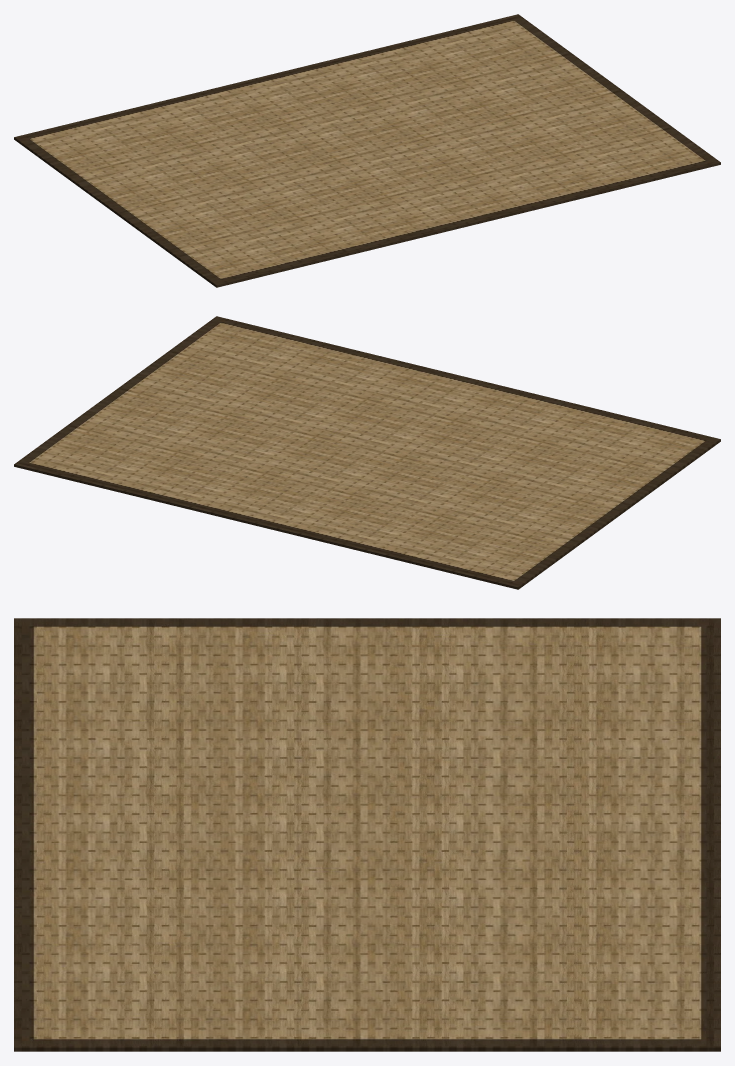
The model's file is alfombra_yute_160x230.glb.
3 views of the same model, one above another, from view 1: azimuth 30°, elevation 25°; view 2: azimuth 150°, elevation 25°; view 3: azimuth 270°, elevation 25° (orthographic). The views are drawn at different scales.
Visible parts, largest first — view 1: alfombra_yute_160x230; view 2: alfombra_yute_160x230; view 3: alfombra_yute_160x230.
Boxes of the visible parts, x1,y1,x2,y2 form: alfombra_yute_160x230: (14,14,720,287); alfombra_yute_160x230: (14,316,720,589); alfombra_yute_160x230: (14,618,720,1051).
Size of the model in its own units: 2.3 by 0.01 by 1.6.
Materials: 1 (1 with a texture image).
